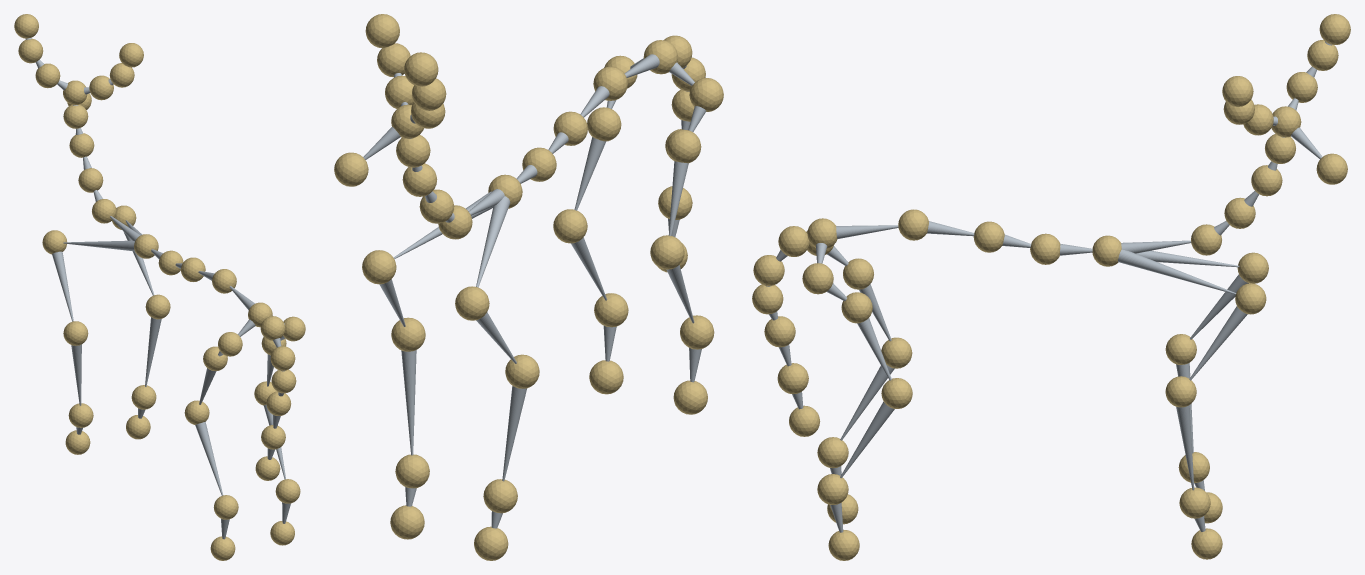
File: skeleton.glb
3 renders of one model, left to right at view 1: azimuth 30°, elevation 25°; view 2: azimuth 150°, elevation 25°; view 3: azimuth 270°, elevation 25°, orthographic. The views are drawn at different scales.
Visible parts, largest first — view 1: geometry_0; view 2: geometry_0; view 3: geometry_0.
Part boxes in pixels (x1,y1,x2,y2): geometry_0: (14, 14, 305, 560); geometry_0: (334, 14, 723, 560); geometry_0: (752, 14, 1350, 560).
Size of the model in its own units: 0.229 by 0.8483 by 0.9081.
